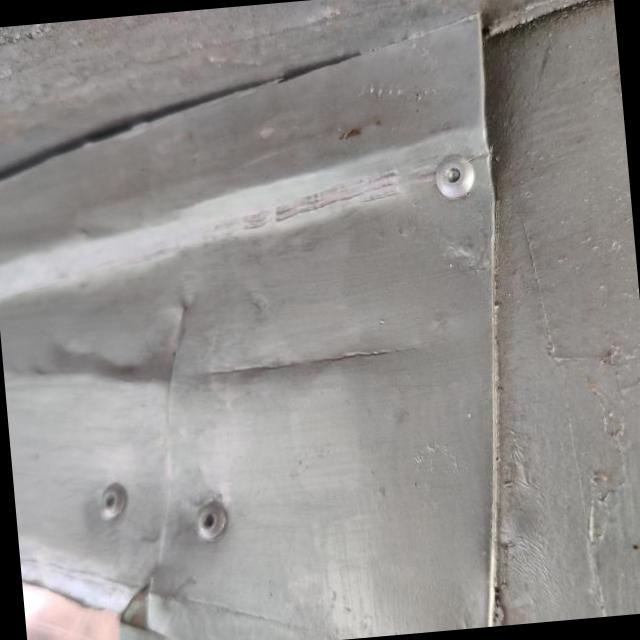Scratch: (169, 301, 426, 435)
